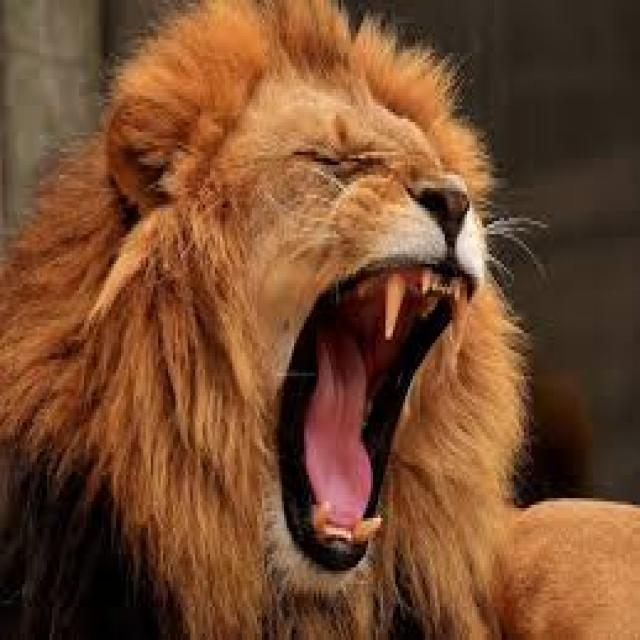Lion: (0, 0, 638, 637)
